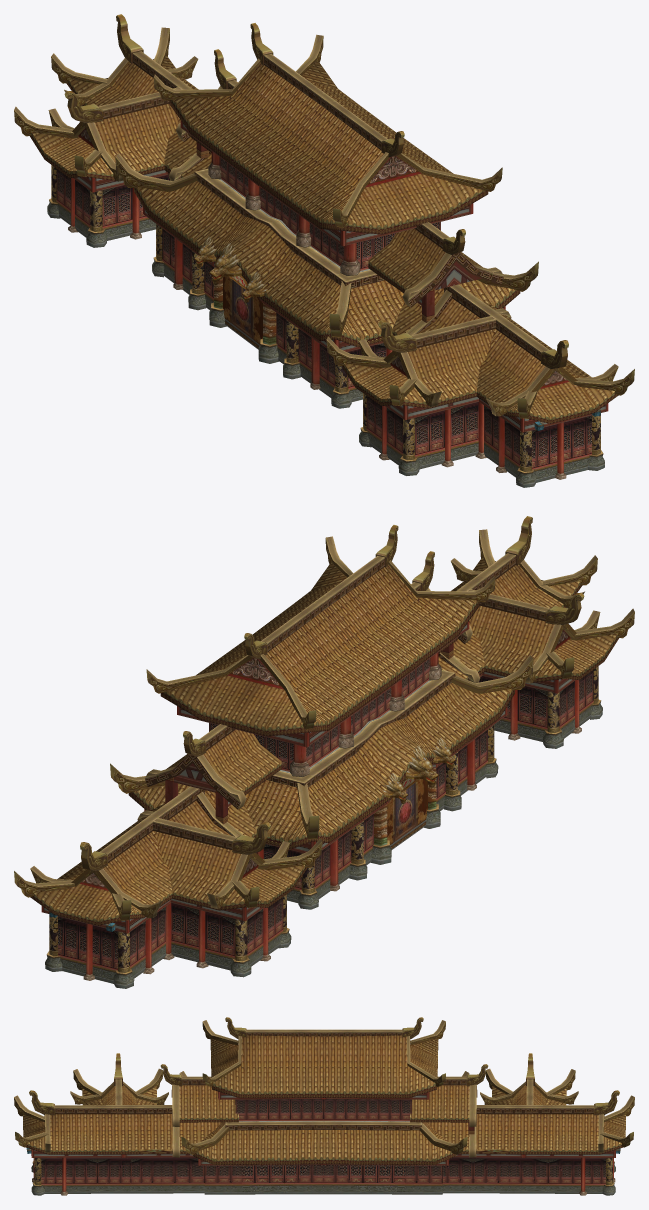
File: Yland1_fz_04 Yland1.FBX
3 views of the same model, one above another, from view 1: azimuth 30°, elevation 25°; view 2: azimuth 150°, elevation 25°; view 3: azimuth 270°, elevation 25° (orthographic). The views are drawn at different scales.
Parts seen in each view (by area): view 1: Yland1_fz_04 Yland1; view 2: Yland1_fz_04 Yland1; view 3: Yland1_fz_04 Yland1.
Boxes of the visible parts, bbox=[...] form: Yland1_fz_04 Yland1: bbox=[14, 14, 634, 487]; Yland1_fz_04 Yland1: bbox=[14, 516, 634, 988]; Yland1_fz_04 Yland1: bbox=[14, 1017, 634, 1195].
Size of the model in its own units: 22.91 by 22.81 by 80.49.
